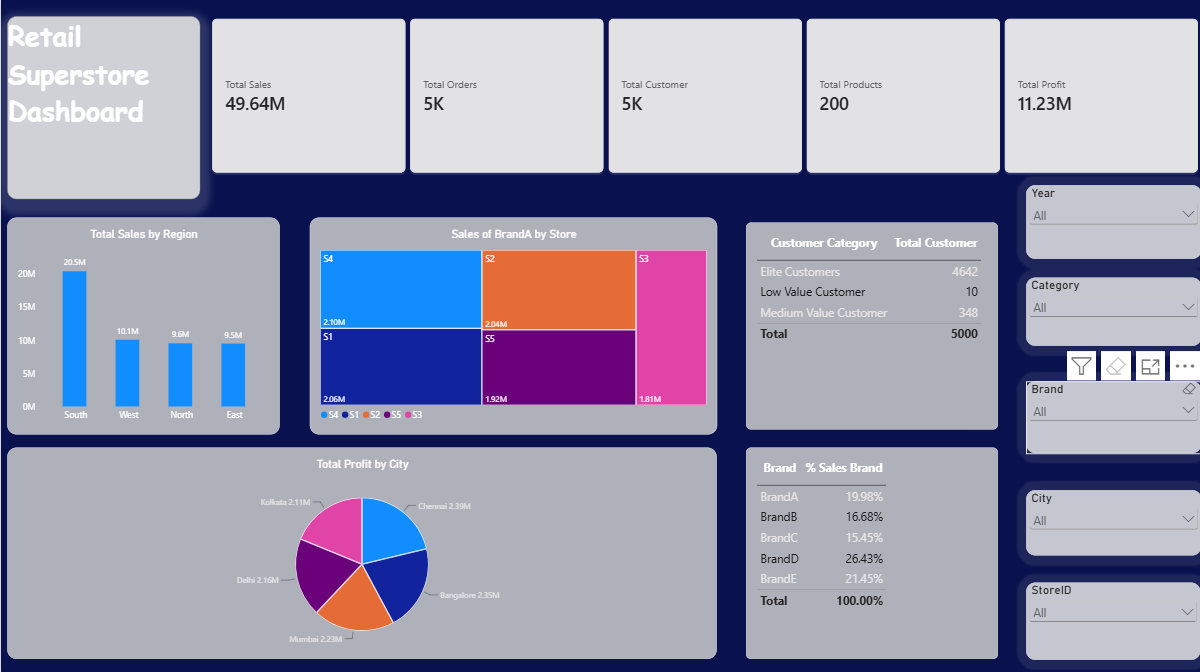

The page's visual inventory and layout, read from the dashboard file:
{"tool":"powerbi","page":{"name":"Overview","canvas":[1920,1080],"ordinal":4},"visuals":[{"type":"textbox","box":[10.5,26.2,308.7,293],"z":0},{"type":"cardVisual","fields":{"Data":["Fact Sales.Total Sales","Fact Sales.Total Orders","Fact Sales.Total Customer","Fact Sales.Total Products","Fact Sales.Total Profit"]},"box":[334.9,26.2,1585.5,254.7],"z":1000},{"type":"slicer","fields":{"Values":["Dim Calender.Year"]},"box":[1639.5,296.5,280.8,118.6],"z":2000},{"type":"slicer","fields":{"Values":["Dim Product.Category"]},"box":[1639.5,443,280.8,109.9],"z":3000},{"type":"slicer","fields":{"Values":["Dim Product.Brand"]},"box":[1639.5,610.5,280.8,115.1],"z":4000},{"type":"slicer","fields":{"Values":["Dim Customer.City"]},"box":[1639.5,783.1,280.8,104.7],"z":5000},{"type":"slicer","fields":{"Values":["Dim Store.StoreID"]},"box":[1639.5,931.4,279.1,123.8],"z":6000},{"type":"columnChart","fields":{"Category":["Dim Customer.Region"],"Y":["Fact Sales.Total Sales"]},"box":[10.5,347.1,436,347.1],"z":7000},{"type":"pieChart","fields":{"Category":["Dim Customer.City"],"Y":["Fact Sales.Total Profit"]},"box":[10.5,716.9,1135.5,338.4],"z":8000},{"type":"treemap","title":"Sales of BrandA by Store","fields":{"Group":["Fact Sales.StoreID"],"Values":["Fact Sales.Total Sales(Brand A)"]},"box":[493.6,347.1,652.3,347.1],"z":9000},{"type":"tableEx","fields":{"Values":["Fact Sales.Customer Category","Fact Sales.Total Customer"]},"box":[1191.3,355.8,402.9,331.4],"z":10000},{"type":"tableEx","fields":{"Values":["Dim Product.Brand","Fact Sales.% Sales Brand"]},"box":[1191.3,716.9,402.9,338.4],"z":11000}]}

Visuals, with their boxes in screenshot pixels (x1, y1, x2, y2), scaled from the page's 1920x1080 canvas onto the 1200x672 screenshot:
textbox: BBox(7, 16, 200, 199)
cardVisual - Fact Sales.Total Sales x Fact Sales.Total Orders: BBox(209, 16, 1199, 175)
slicer - Dim Calender.Year: BBox(1025, 184, 1199, 258)
slicer - Dim Product.Category: BBox(1025, 276, 1199, 344)
slicer - Dim Product.Brand: BBox(1025, 380, 1199, 451)
slicer - Dim Customer.City: BBox(1025, 487, 1199, 552)
slicer - Dim Store.StoreID: BBox(1025, 580, 1199, 657)
columnChart - Dim Customer.Region x Fact Sales.Total Sales: BBox(7, 216, 279, 432)
pieChart - Dim Customer.City x Fact Sales.Total Profit: BBox(7, 446, 716, 657)
"Sales of BrandA by Store" treemap: BBox(308, 216, 716, 432)
tableEx - Fact Sales.Customer Category x Fact Sales.Total Customer: BBox(745, 221, 996, 428)
tableEx - Dim Product.Brand x Fact Sales.% Sales Brand: BBox(745, 446, 996, 657)
